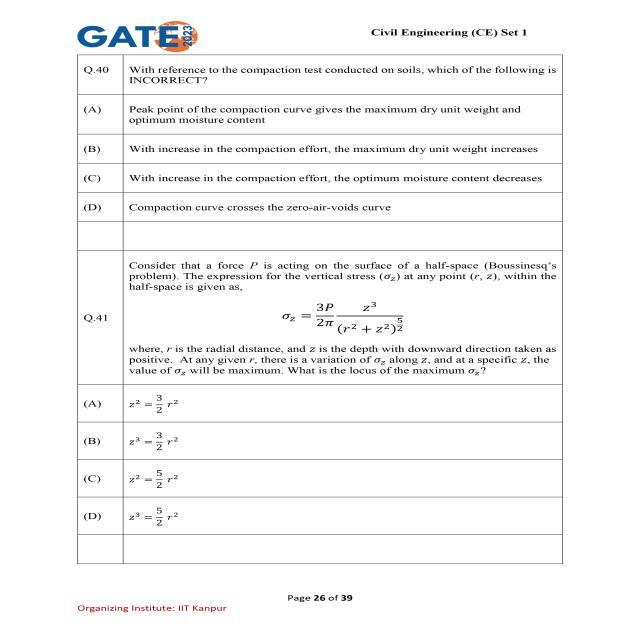Answer_Block: (71, 386, 561, 534), (72, 92, 560, 224)
Question_Answer_Block: (72, 250, 560, 534), (74, 54, 560, 253)
Question_Block: (71, 251, 559, 385), (74, 54, 562, 93)
Question_Paper_Area: (78, 56, 556, 564)
